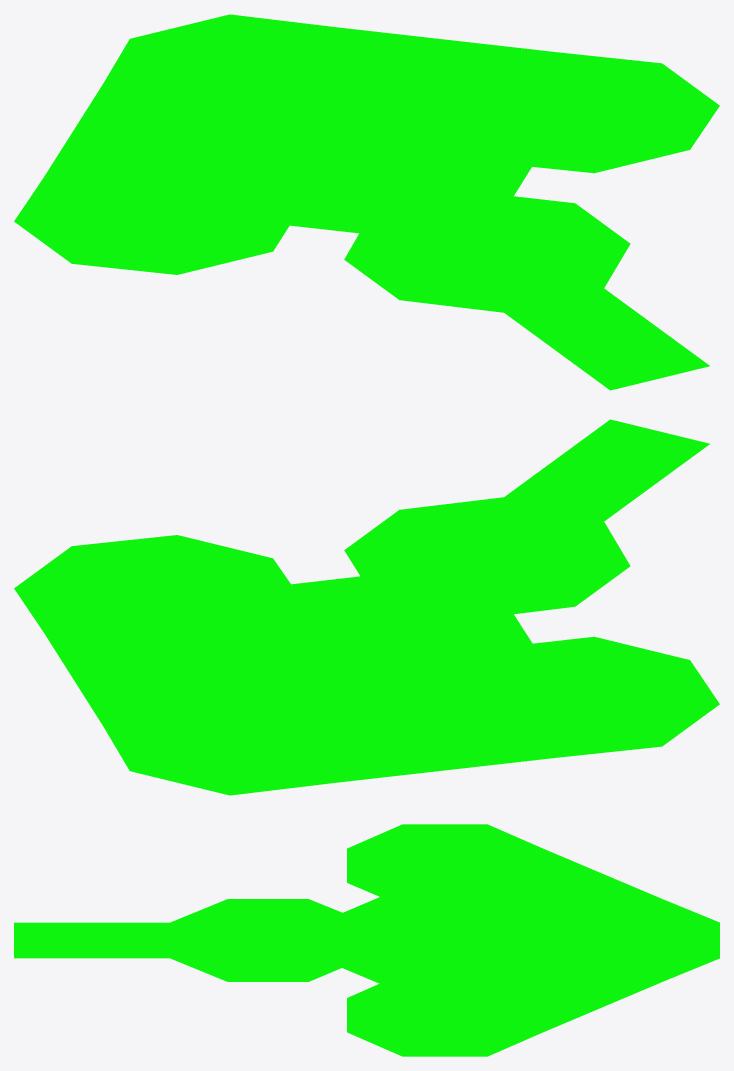
File: s07b_na1-floor.glb
3 views of the same model, one above another, from view 1: azimuth 30°, elevation 25°; view 2: azimuth 150°, elevation 25°; view 3: azimuth 270°, elevation 25° (orthographic). The views are drawn at different scales.
Visible parts, largest first — view 1: collision_floor-colonly; view 2: collision_floor-colonly; view 3: collision_floor-colonly.
Part boxes in pixels (bbox=[...]): collision_floor-colonly: bbox=[14, 14, 719, 390]; collision_floor-colonly: bbox=[14, 419, 719, 795]; collision_floor-colonly: bbox=[14, 824, 719, 1056].
Bounding box in the file's own units: 38.86 × 0 × 49.89.
